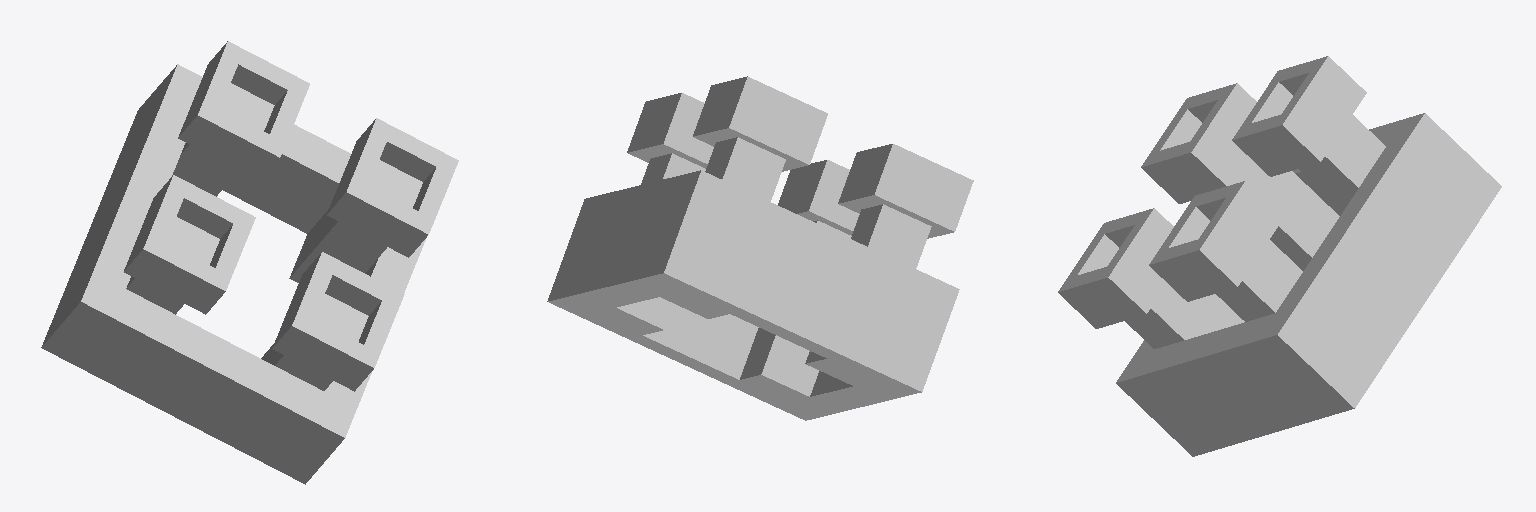
File: dunesand_castle.obj
3 views of the same model, side by side, from view 1: azimuth 30°, elevation 25°; view 2: azimuth 150°, elevation 25°; view 3: azimuth 270°, elevation 25° (orthographic).
Parts seen in each view (by area): view 1: cube; view 2: cube; view 3: cube.
Part boxes in pixels (x1,y1,x2,y2): cube: (41, 41, 458, 484); cube: (547, 76, 973, 420); cube: (1058, 56, 1501, 456).
Size of the model in its own units: 0.3799 by 0.3899 by 0.3962.